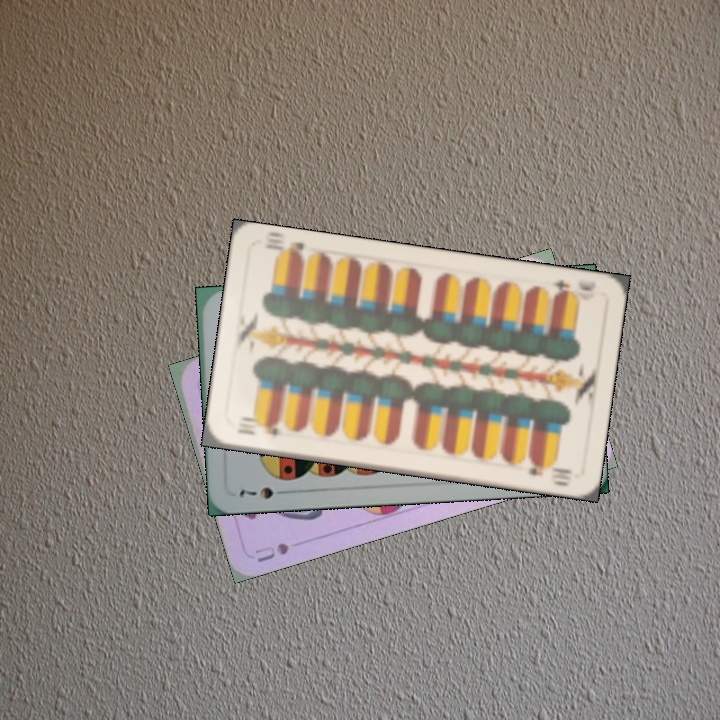E10: (547, 275, 599, 301), (233, 415, 281, 439)
S7: (234, 483, 291, 502)
SU: (251, 539, 292, 565)
